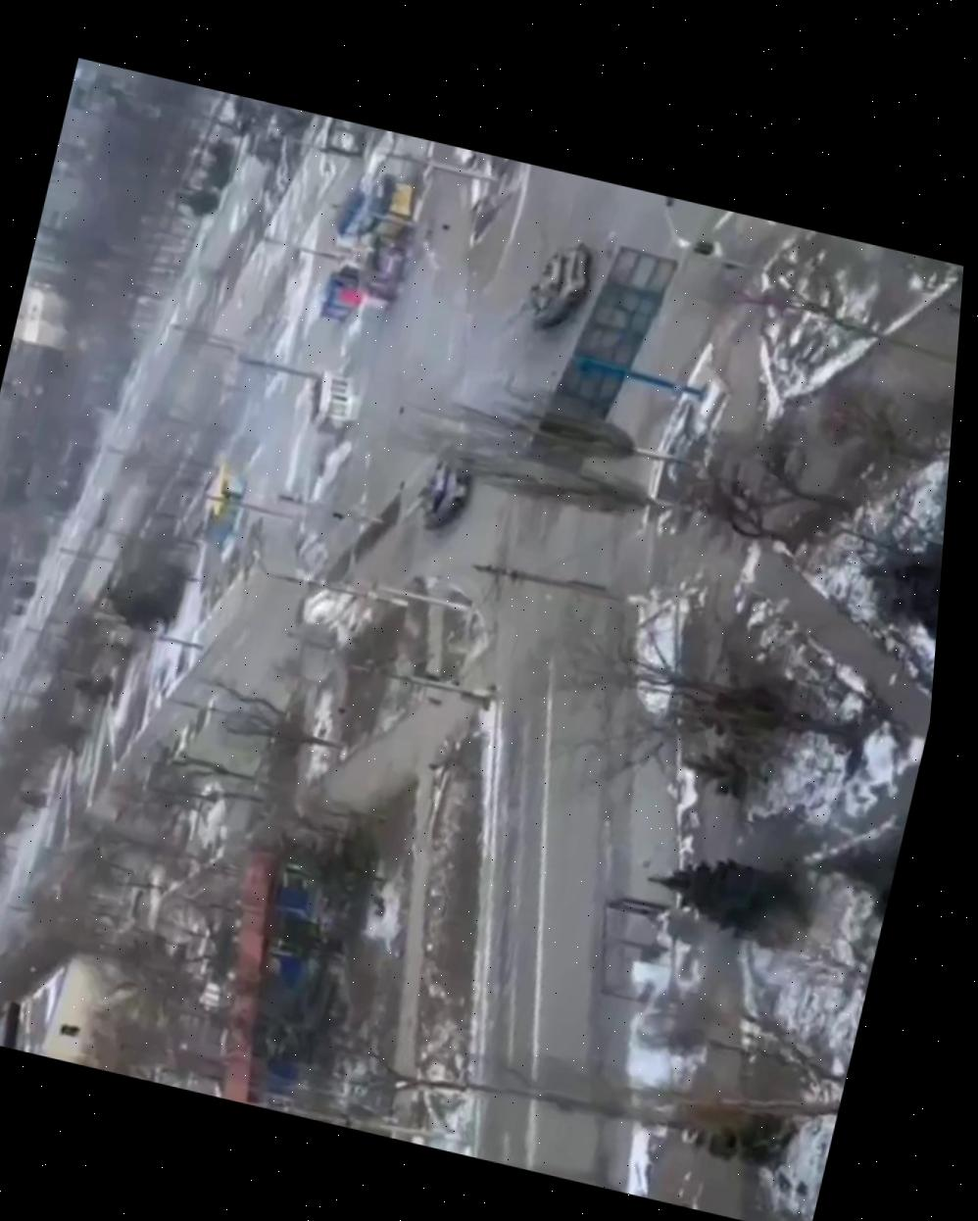tank: (495, 225, 603, 353), (394, 436, 483, 542)
